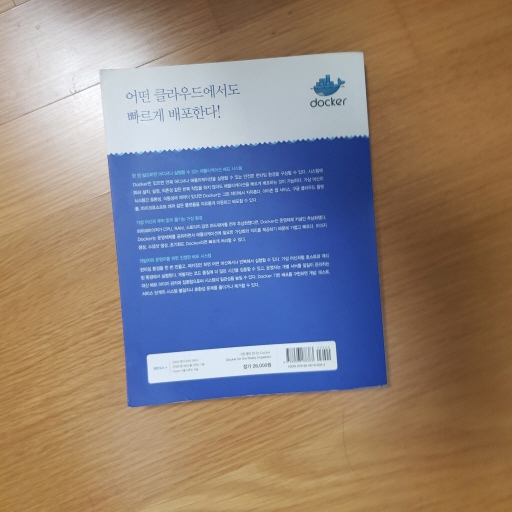Paper_0: (90, 45, 398, 413)
